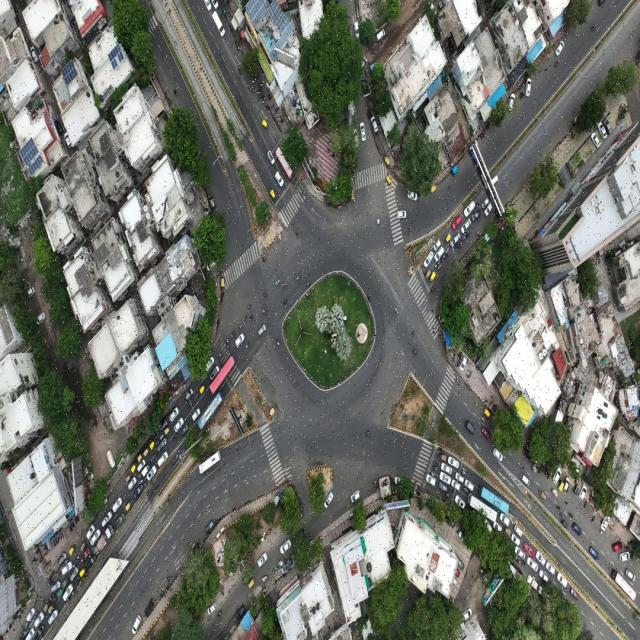3W: (570, 112, 580, 127), (247, 576, 256, 592), (423, 268, 433, 282), (503, 524, 513, 538), (450, 165, 460, 178), (442, 231, 452, 244), (42, 599, 51, 613), (560, 516, 569, 530), (125, 499, 133, 514), (60, 578, 69, 591), (80, 540, 88, 554), (573, 480, 580, 496), (68, 544, 77, 556), (164, 425, 173, 437), (149, 436, 156, 451), (48, 602, 55, 616), (269, 187, 276, 201), (56, 588, 64, 600), (80, 566, 88, 578), (125, 472, 133, 484), (130, 462, 138, 474), (136, 451, 144, 463), (142, 446, 150, 458), (150, 452, 158, 464), (220, 274, 226, 290), (261, 119, 269, 131), (383, 156, 391, 168), (431, 180, 437, 196), (429, 270, 437, 282), (385, 175, 392, 188), (537, 490, 546, 500), (558, 478, 564, 493), (439, 452, 448, 462), (200, 384, 206, 396), (484, 408, 491, 418)
Bus: (208, 354, 239, 397), (477, 482, 512, 516), (610, 566, 638, 606), (271, 137, 296, 181), (197, 392, 224, 432), (466, 493, 498, 524), (195, 447, 223, 477)
Cars: (143, 594, 156, 623), (155, 448, 169, 471), (358, 112, 368, 144), (570, 517, 585, 538), (586, 540, 600, 562), (321, 491, 335, 512), (447, 454, 463, 472), (556, 570, 570, 590), (596, 119, 608, 142), (278, 538, 294, 555), (534, 548, 548, 567), (111, 495, 123, 517), (206, 191, 218, 213), (61, 582, 74, 602), (202, 354, 215, 374), (349, 486, 362, 506), (422, 250, 435, 270), (256, 552, 270, 570), (351, 125, 361, 150), (523, 74, 533, 99), (233, 332, 246, 351), (463, 199, 476, 218), (450, 213, 463, 232), (25, 604, 37, 624), (168, 404, 180, 424), (609, 537, 625, 552), (522, 539, 536, 556), (374, 25, 387, 43), (518, 470, 531, 488), (132, 613, 142, 636), (359, 74, 369, 97), (209, 364, 221, 383), (590, 130, 602, 149), (464, 418, 476, 437), (568, 584, 580, 603), (352, 18, 361, 43), (538, 569, 552, 585), (156, 436, 169, 453), (514, 544, 527, 561), (498, 511, 511, 528), (603, 116, 614, 136), (48, 608, 60, 626), (90, 528, 102, 546), (508, 90, 517, 114), (481, 425, 493, 443), (624, 566, 636, 584), (491, 518, 503, 536), (205, 601, 219, 616), (115, 513, 126, 532), (147, 465, 158, 484), (136, 455, 147, 474), (274, 171, 285, 190), (554, 40, 565, 59), (526, 556, 539, 572), (454, 492, 467, 508), (132, 483, 144, 500), (127, 474, 139, 491), (256, 322, 268, 339), (236, 603, 248, 620), (492, 446, 504, 463), (437, 480, 449, 497), (552, 466, 562, 486), (578, 484, 588, 504), (158, 416, 169, 434), (440, 462, 454, 476), (439, 469, 453, 483), (61, 560, 74, 575), (100, 512, 113, 527), (172, 417, 185, 432), (202, 519, 215, 534), (618, 548, 631, 563), (182, 386, 194, 402), (406, 187, 418, 203), (546, 560, 558, 576), (85, 523, 96, 540), (434, 245, 445, 262), (33, 626, 46, 640), (189, 408, 202, 422), (424, 472, 437, 486), (58, 550, 68, 568), (267, 149, 276, 169), (370, 114, 379, 134), (18, 624, 29, 640), (34, 612, 45, 628), (51, 578, 62, 594), (179, 422, 190, 438), (450, 233, 461, 249), (395, 207, 408, 220), (562, 475, 570, 496), (510, 533, 522, 547), (513, 523, 524, 538), (69, 566, 79, 582), (88, 553, 98, 569), (209, 0, 221, 13), (470, 209, 482, 222), (464, 479, 476, 492), (432, 238, 443, 252), (450, 478, 461, 492), (462, 218, 471, 235), (459, 354, 468, 371), (359, 54, 368, 70), (480, 196, 491, 209), (25, 626, 35, 640), (454, 470, 465, 482), (485, 202, 493, 218), (203, 0, 212, 14)
LCV: (209, 6, 228, 42), (525, 569, 539, 591), (140, 462, 151, 478)
M2W: (80, 545, 90, 566), (246, 301, 254, 315), (390, 304, 400, 315), (409, 344, 418, 356), (458, 463, 466, 476), (427, 465, 435, 478), (294, 271, 302, 283), (304, 276, 312, 288), (409, 327, 416, 340), (260, 306, 269, 316), (260, 255, 269, 265), (230, 328, 237, 340), (274, 276, 280, 290), (582, 496, 588, 510), (216, 608, 224, 618), (172, 432, 179, 443), (479, 413, 486, 424), (591, 20, 597, 32), (518, 462, 526, 471), (558, 510, 566, 519), (82, 571, 89, 581), (248, 314, 255, 324), (461, 484, 468, 494), (448, 482, 454, 493), (134, 469, 142, 477), (258, 91, 266, 99), (137, 470, 144, 479), (241, 313, 248, 322), (55, 569, 61, 579), (76, 576, 82, 586), (263, 289, 269, 299), (282, 296, 288, 306), (282, 280, 288, 290), (173, 88, 179, 98), (236, 66, 242, 76), (366, 293, 372, 303), (475, 200, 481, 210), (458, 240, 464, 250), (444, 250, 450, 260), (438, 444, 444, 454), (237, 323, 244, 331), (364, 430, 371, 438), (40, 596, 46, 605), (46, 580, 52, 589), (86, 551, 92, 560), (194, 392, 200, 401), (274, 134, 280, 143), (434, 260, 440, 269), (432, 463, 438, 472), (432, 324, 436, 337), (66, 595, 71, 605), (245, 340, 250, 350), (479, 132, 484, 142), (445, 244, 450, 254), (430, 285, 435, 295), (256, 88, 263, 95), (260, 98, 267, 105), (31, 558, 39, 564), (159, 432, 165, 440), (454, 240, 460, 248), (435, 264, 443, 270), (591, 513, 595, 525), (520, 558, 526, 566), (39, 555, 44, 564), (68, 525, 73, 534), (71, 521, 76, 530), (256, 83, 261, 92), (52, 596, 58, 603), (74, 555, 80, 562), (142, 475, 148, 482), (187, 401, 193, 408), (224, 344, 230, 351), (225, 336, 231, 343), (235, 45, 241, 52), (249, 86, 255, 93), (260, 79, 266, 86), (268, 96, 274, 103), (553, 61, 559, 68), (555, 504, 561, 511), (568, 511, 574, 518), (444, 492, 450, 499), (435, 460, 441, 467), (276, 339, 281, 347), (266, 103, 270, 113), (50, 594, 56, 600), (137, 479, 143, 485), (148, 479, 152, 488), (53, 538, 56, 550), (74, 515, 78, 524), (251, 78, 257, 84), (463, 230, 469, 236), (441, 254, 445, 263), (544, 467, 548, 476), (24, 621, 29, 628), (266, 92, 271, 99), (466, 232, 471, 239), (34, 611, 38, 619), (60, 533, 64, 541), (46, 561, 51, 567), (219, 351, 223, 358), (520, 93, 524, 100), (57, 536, 60, 545), (526, 452, 529, 461), (156, 439, 160, 445), (461, 236, 465, 242), (538, 468, 541, 475), (541, 466, 544, 473), (524, 449, 526, 458), (534, 459, 536, 468)
Truck: (91, 519, 116, 560)
